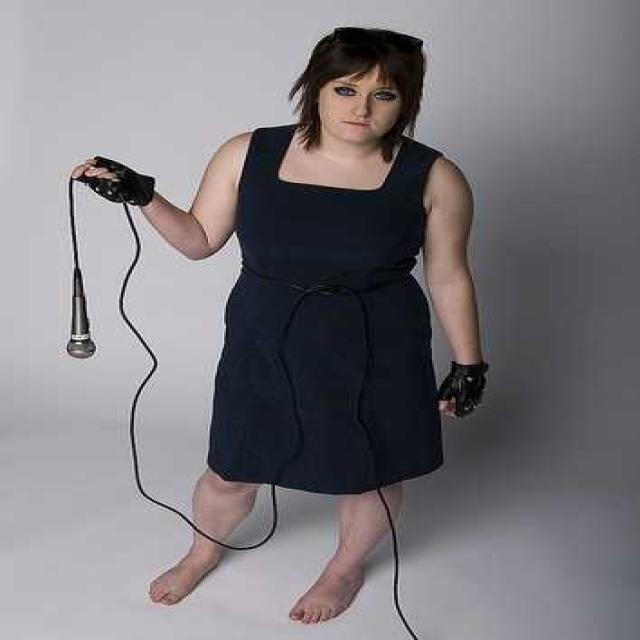microphone: (66, 274, 95, 362)
